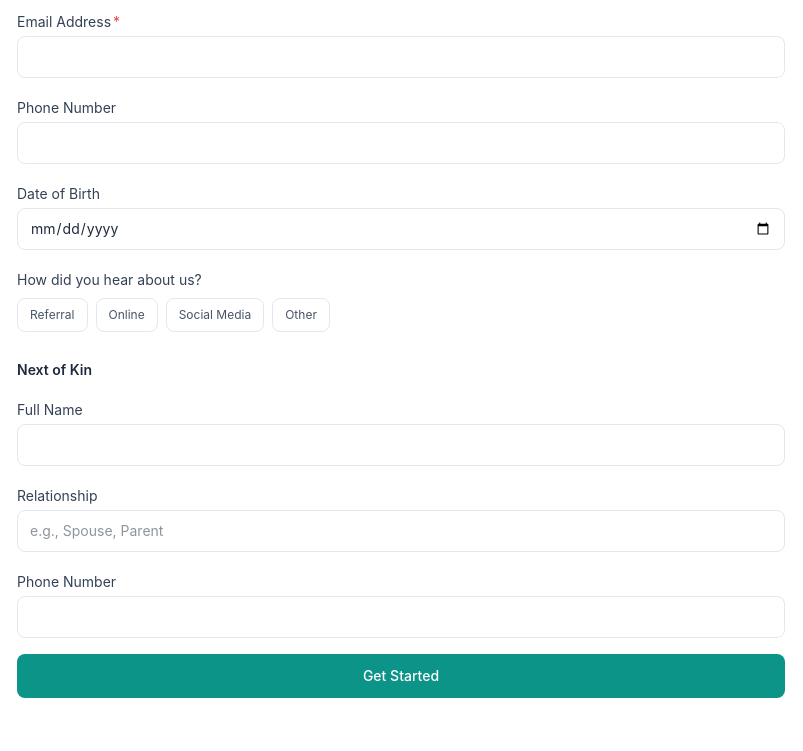
Test: Intake Survey Page › validates required fields and blocks navigation when empty
(page scrolled)
Click the button "Get Started". click: click(401, 676)
box: [17,654,785,698]
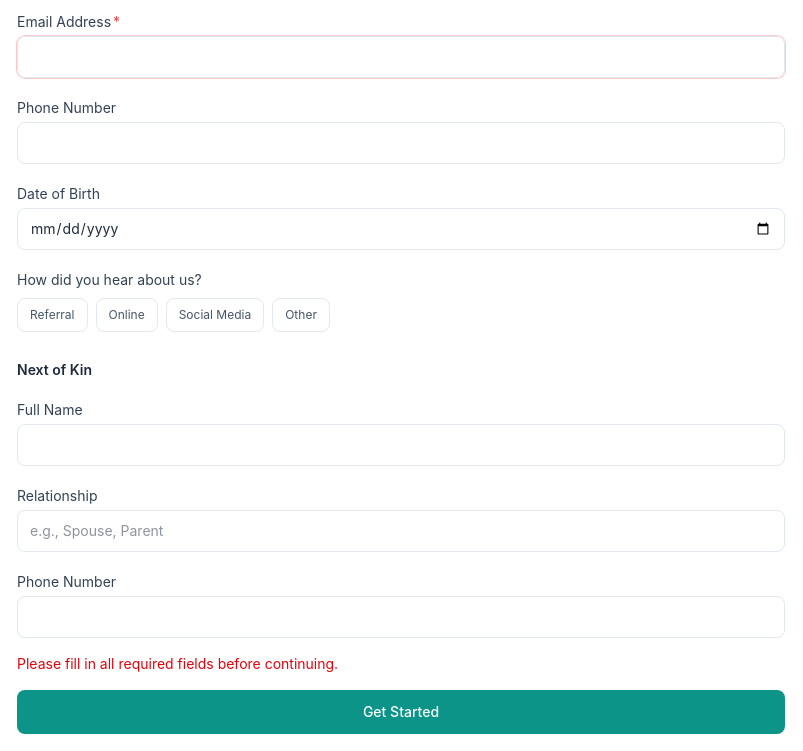
Result: the message shows "required fields" at [17,655,338,672]
